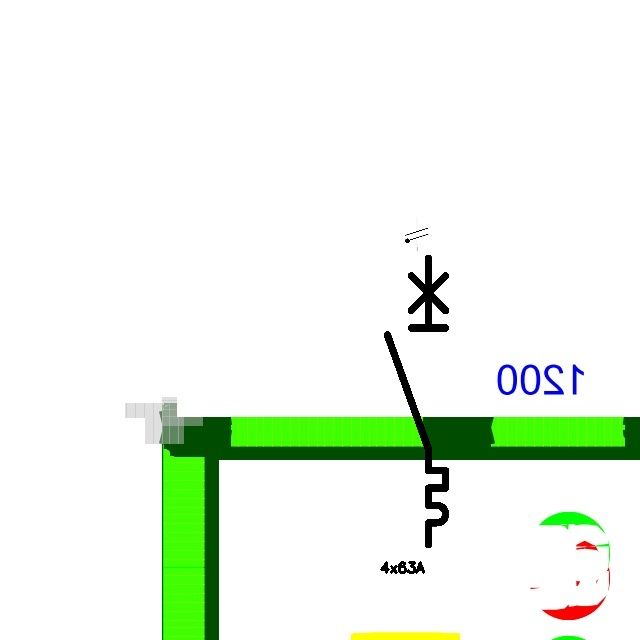interruptor_termomagnetico: (380, 251, 453, 552)
